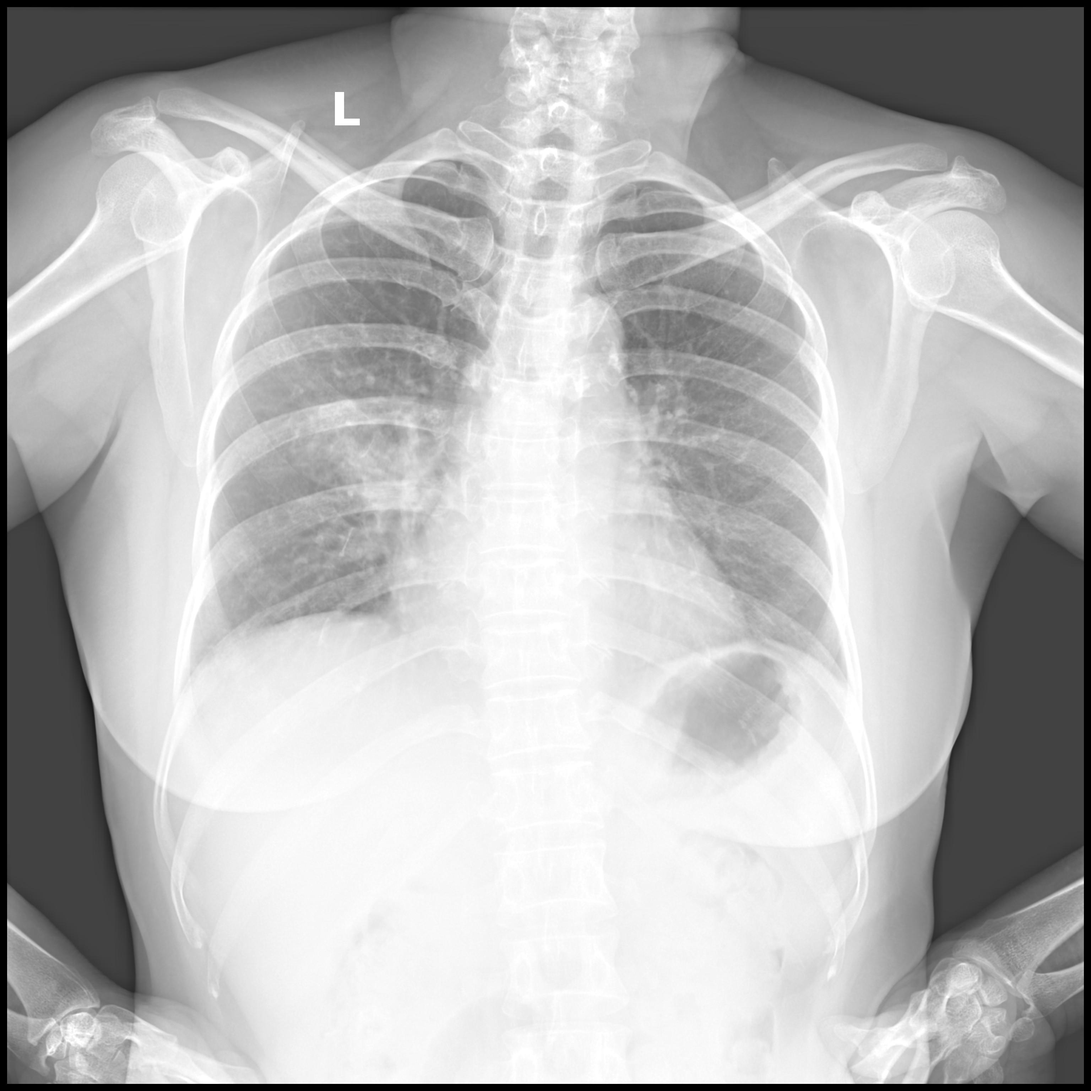Cardiomegaly: (384, 553, 749, 657)
